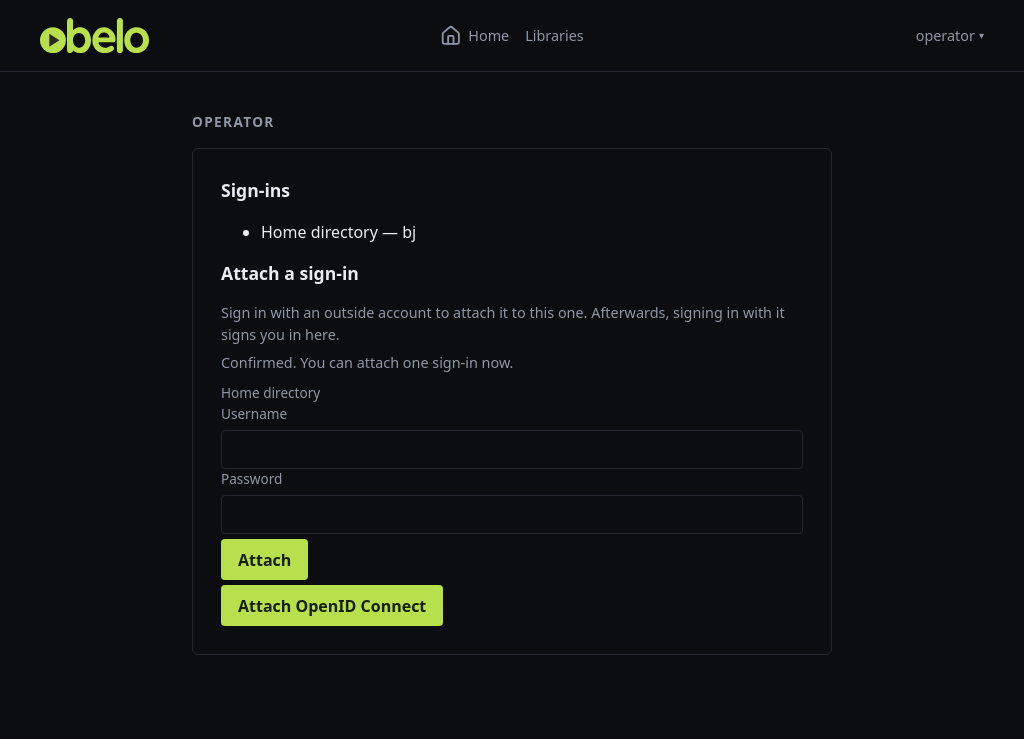
Scenario: confirming it is you before an attach › does not send a grant that was forgotten while the profile was open
This screenshot has width=1024, height=739.
Expected: the text "Confirmed. You can attach one sign-in now." is shown, [221,353,514,372]
In the field with test id "profile-attach-username-directory": (512, 449) [221,430,803,469], type "bj2"
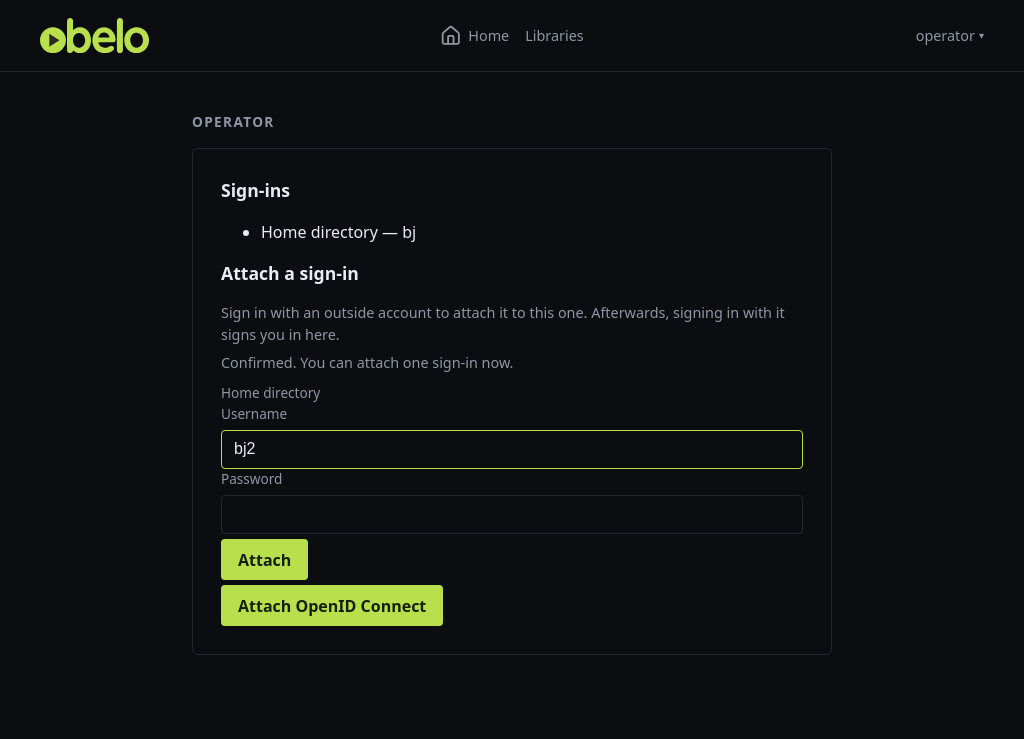
In the password field with test id "profile-attach-password-directory": (512, 514) [221,495,803,534], type "pw2"
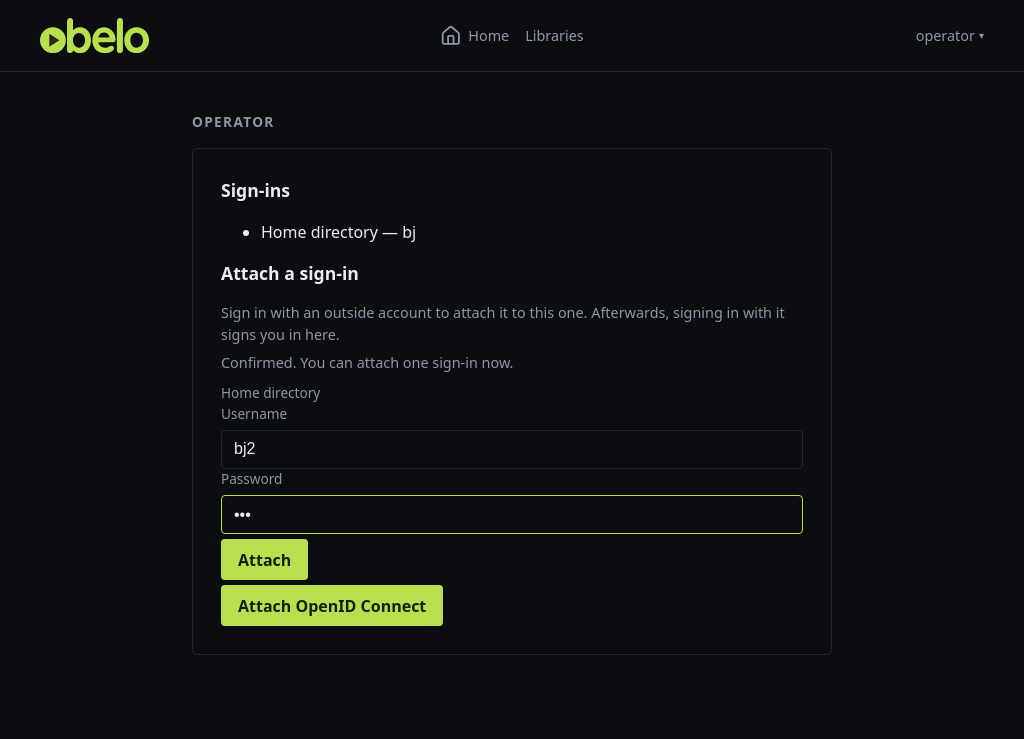
Click the button with test id "profile-attach-submit-directory": (265, 560) [221,539,308,580]
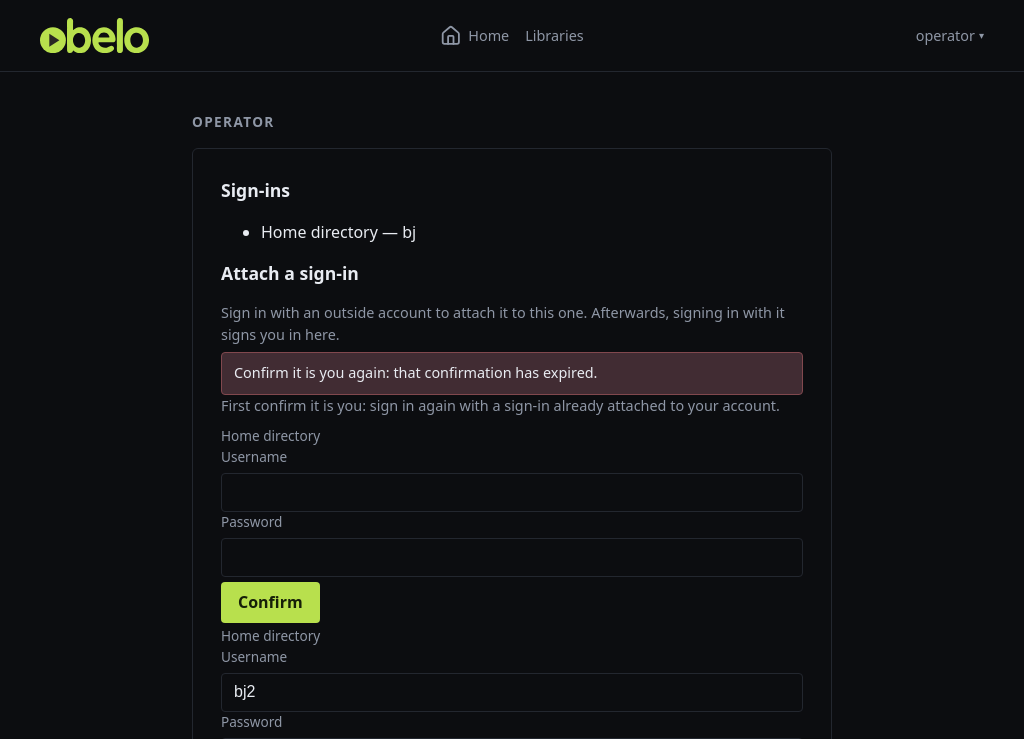
Now the message with test id "profile-attach-error" shows "Confirm it is you again", box [234,363,598,382]
